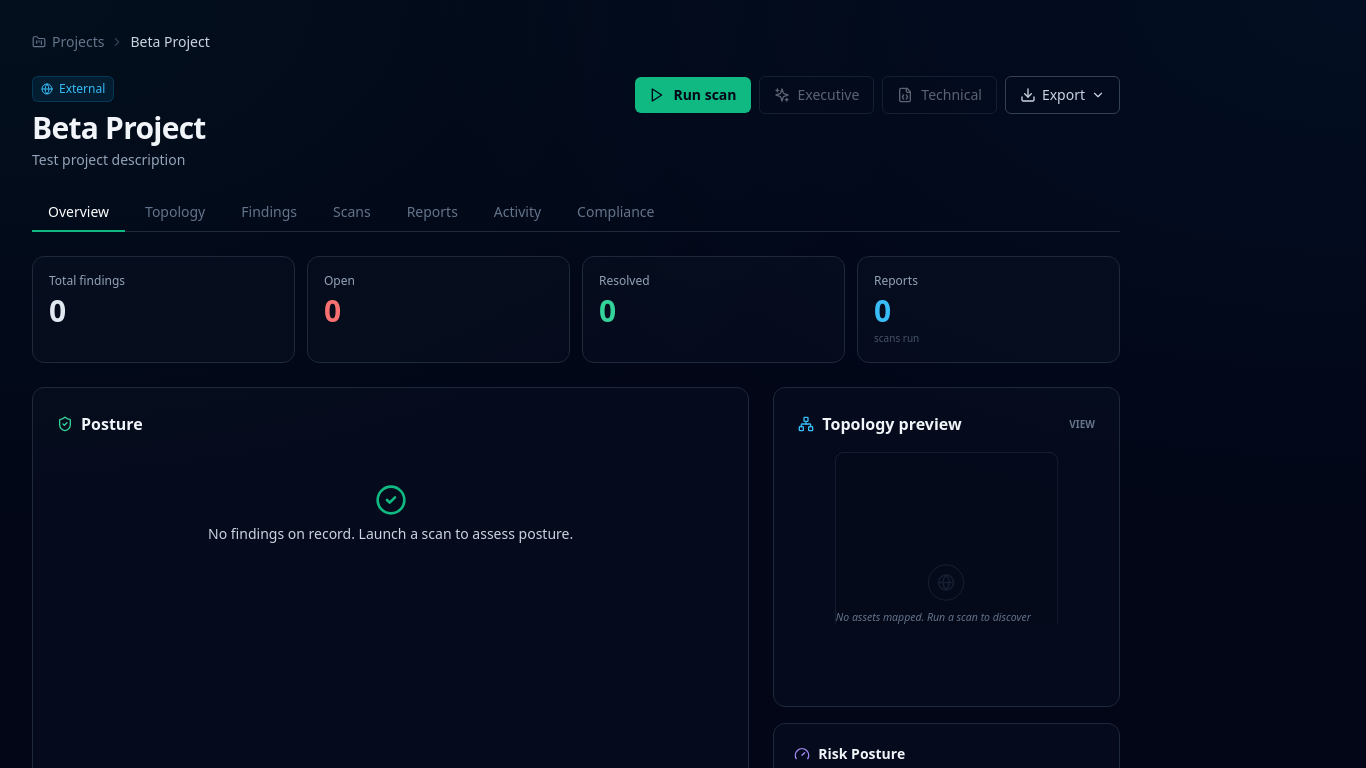
it: ProjectDetail — tab switching › switches to reports tab and shows empty state
Click the button "reports". click: (432, 213)
box: [391,194,474,232]
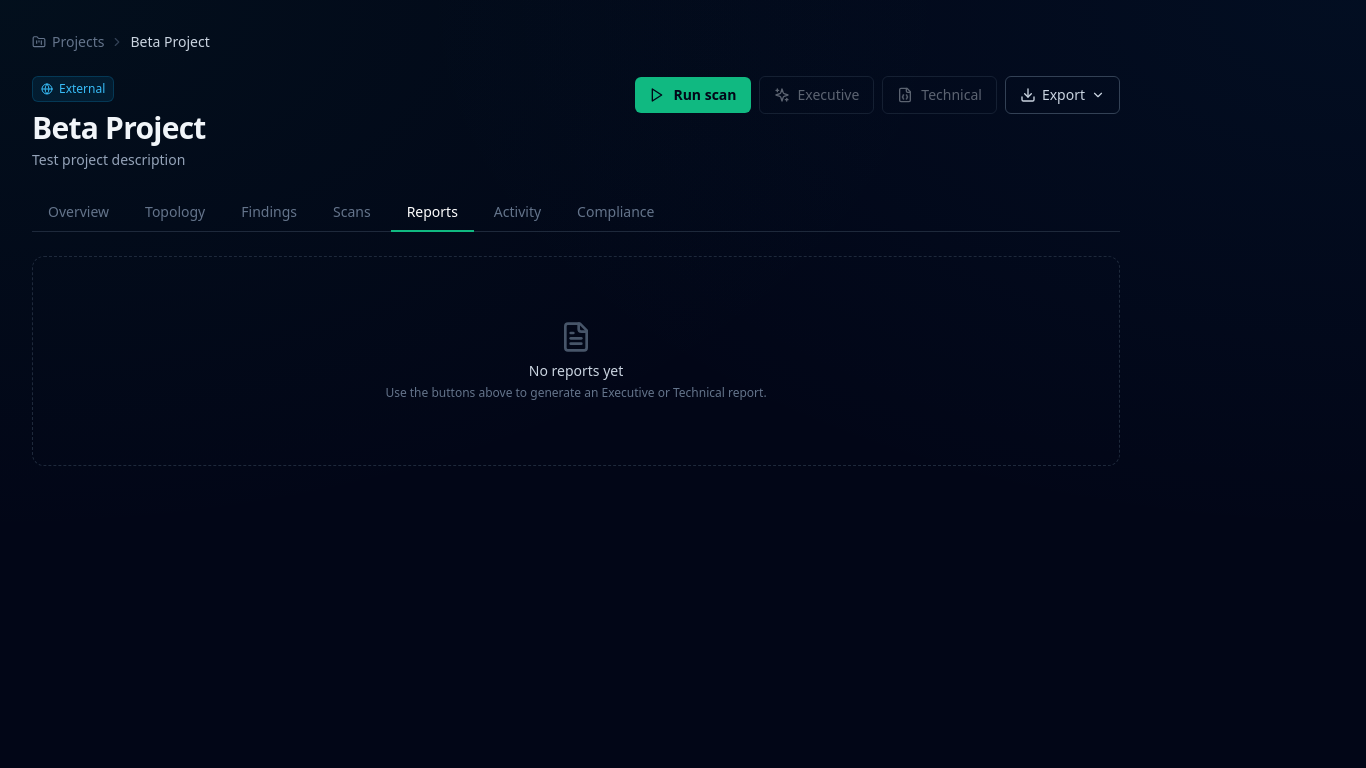
Expected: the text "No reports yet" is shown, [529,361,623,380]
